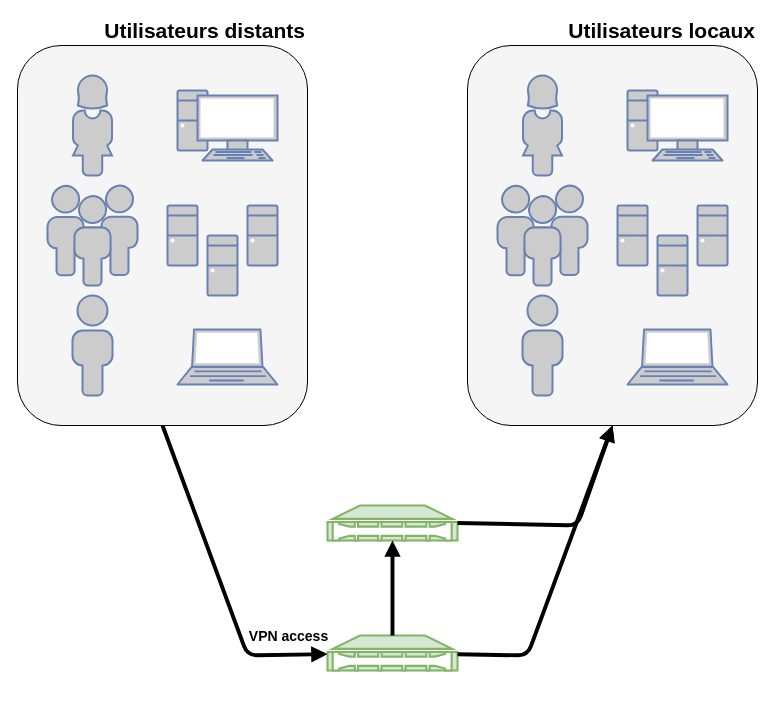
This 775x714 diagram has some shape labels left out. Here are the shapes that lost their labels. From the top down, the centre of each, then its label:
At (x=392, y=522): "ssh gateway (ssh.telecom-bretagne.eu)".
At (x=392, y=652): "VPN IMT Atlatique".
